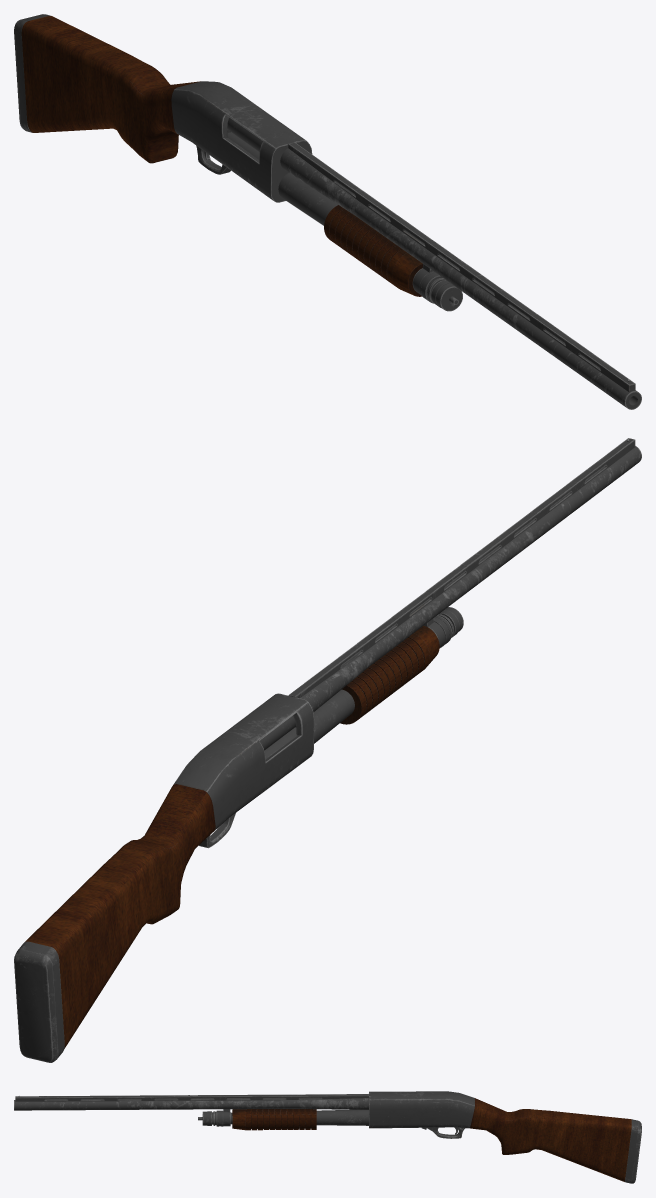
Rendered from shotgun_classic.glb.
The picture shows the model from 3 angles, top to bottom: view 1: azimuth 30°, elevation 25°; view 2: azimuth 150°, elevation 25°; view 3: azimuth 270°, elevation 25°; orthographic projection. The views are drawn at different scales.
Visible parts, largest first — view 1: Cube, Cube.002, Cylinder, Cube.003, Cylinder.001, Cylinder.013, Cube.001; view 2: Cube, Cube.002, Cylinder, Cube.001, Cube.003, Cylinder.001; view 3: Cube, Cube.002, Cylinder, Cube.003, Cylinder.001, Cube.001, Cylinder.013, Plane.
Part boxes in pixels (x1=…): Cube: x1=21, y1=16, x2=200, y2=163; Cube.002: x1=171, y1=81, x2=312, y2=202; Cylinder: x1=227, y1=117, x2=641, y2=409; Cube.003: x1=288, y1=142, x2=635, y2=392; Cylinder.001: x1=227, y1=132, x2=462, y2=311; Cylinder.013: x1=387, y1=249, x2=422, y2=296; Cube.001: x1=14, y1=14, x2=50, y2=132; Cube: x1=24, y1=784, x2=215, y2=1048; Cube.002: x1=173, y1=693, x2=314, y2=830; Cylinder: x1=259, y1=446, x2=641, y2=750; Cube.001: x1=14, y1=941, x2=64, y2=1062; Cube.003: x1=288, y1=438, x2=635, y2=698; Cylinder.001: x1=264, y1=607, x2=463, y2=758; Cube: x1=470, y1=1098, x2=631, y2=1181; Cube.002: x1=369, y1=1091, x2=474, y2=1128; Cylinder: x1=14, y1=1098, x2=368, y2=1110; Cube.003: x1=15, y1=1094, x2=368, y2=1101; Cylinder.001: x1=198, y1=1109, x2=368, y2=1126; Cube.001: x1=624, y1=1119, x2=641, y2=1183; Cylinder.013: x1=232, y1=1109, x2=250, y2=1130; Plane: x1=422, y1=1127, x2=465, y2=1138.
Bounding box in the file's own units: 1.59 × 5.56 × 35.74.
1 material, 1 textured.
